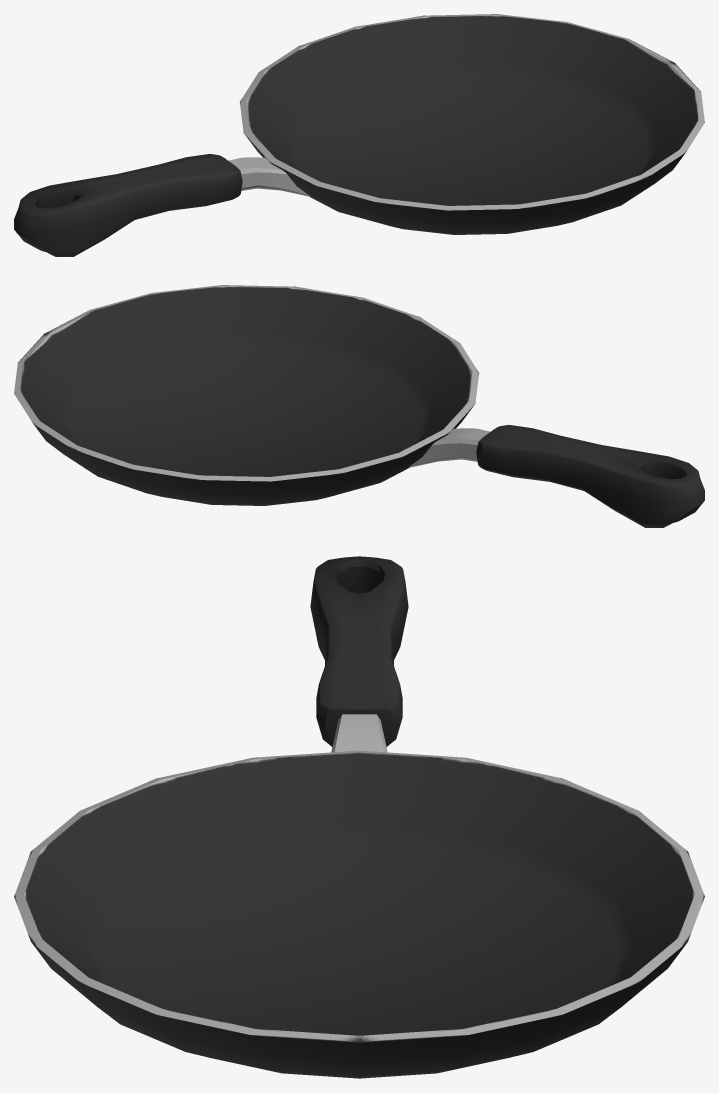
Rendered from pan.FBX.
3 views of the same model, one above another, from view 1: azimuth 30°, elevation 25°; view 2: azimuth 150°, elevation 25°; view 3: azimuth 270°, elevation 25° (orthographic). The views are drawn at different scales.
Parts seen in each view (by area): view 1: pan; view 2: pan; view 3: pan.
Boxes of the visible parts, <box> form: pan: <box>14,14,704,256</box>; pan: <box>14,285,704,527</box>; pan: <box>14,556,704,1078</box>.
Size of the model in its own units: 46.35 by 4.5 by 28.56.
Materials: 1 (1 with a texture image).
